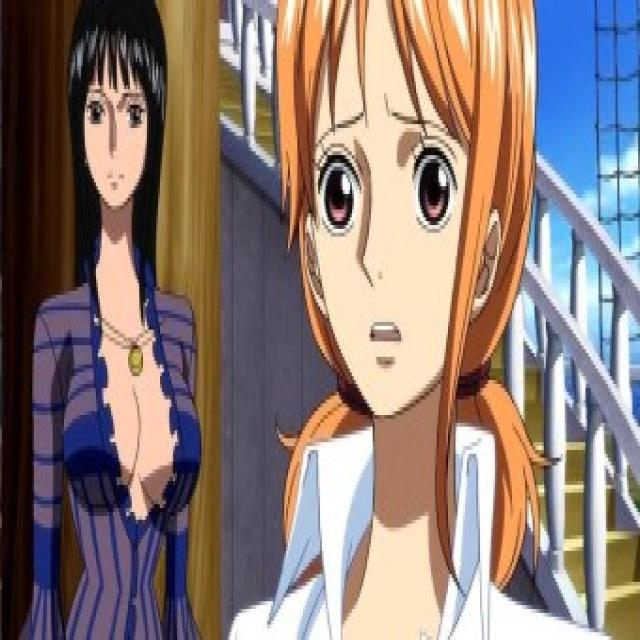Nami: (275, 0, 539, 446)
NicoRobin: (62, 0, 166, 247)
